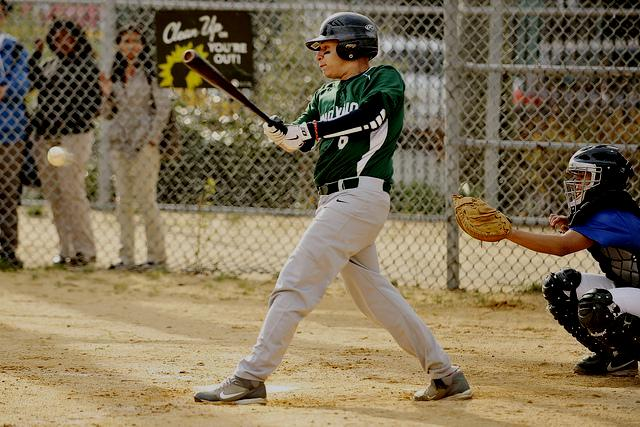baseball bat: (182, 50, 270, 122)
sports ball: (47, 147, 67, 168)
